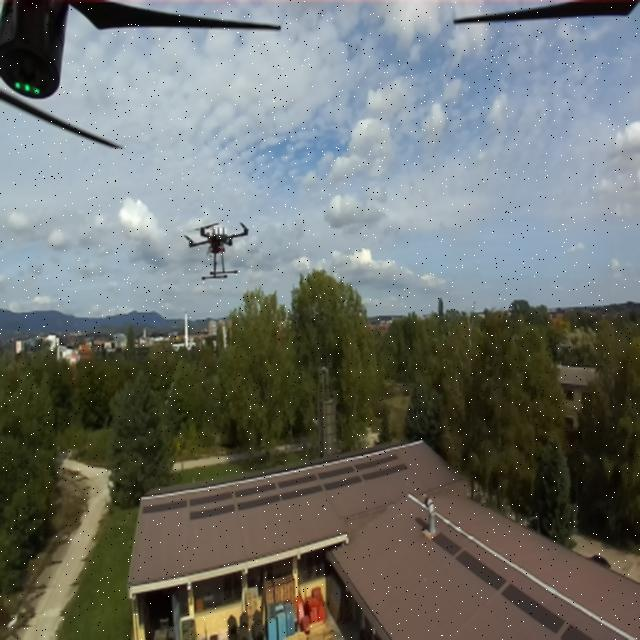UAV: (184, 212, 250, 284)
